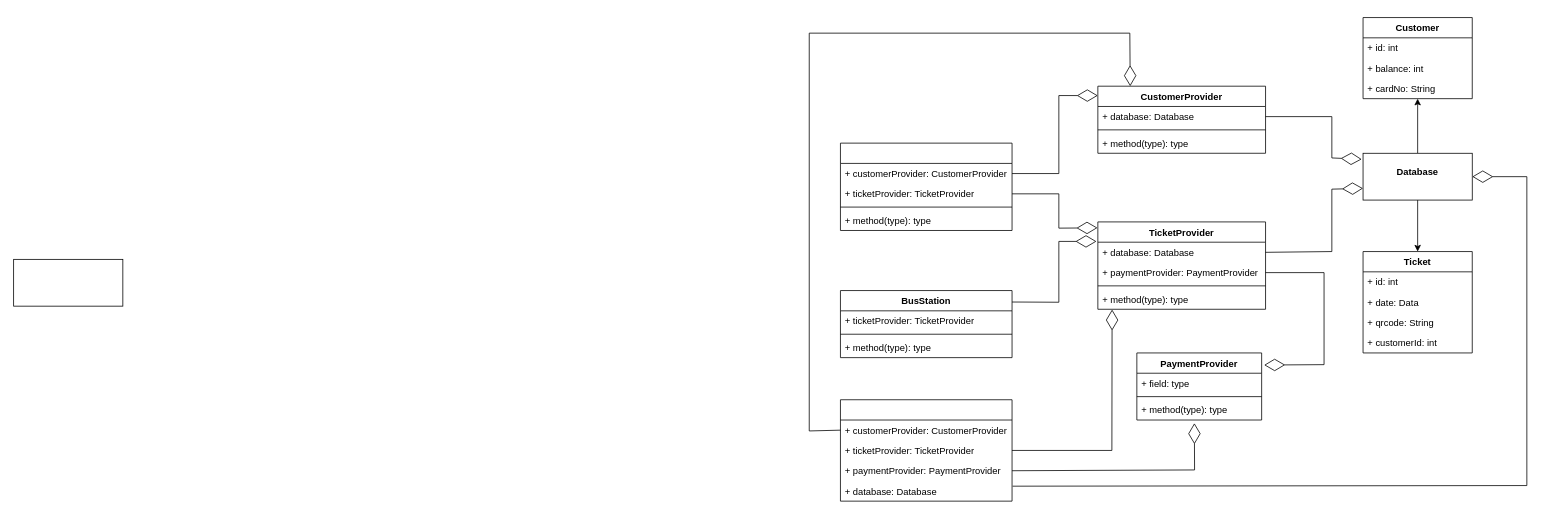
The diagram is 1561 pixels wide and 520 high, and some of its shapes have lost their labels. The shapes that lost their labels are listed below. From the top down, each one's box as (x1, y1, x2, y2) in pixels, then its label:
(840, 142, 1012, 230): ModelApp
(13, 259, 123, 306): Class
(840, 399, 1012, 501): Core
